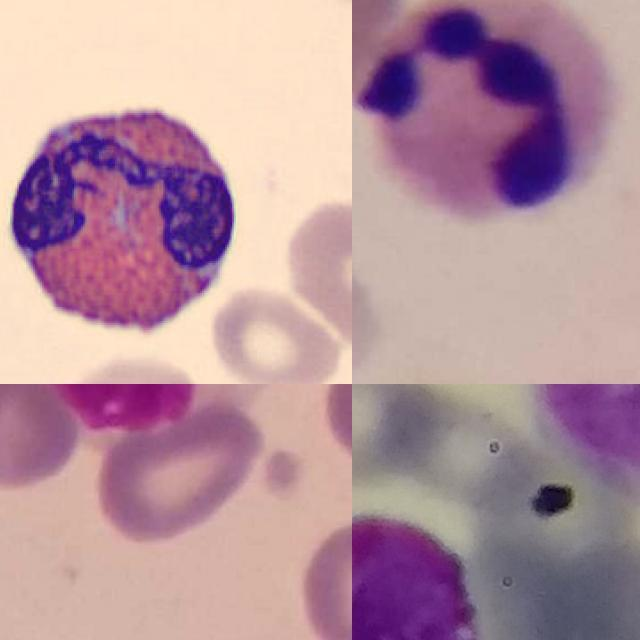Basophil: (352, 512, 489, 640)
Eosinophil: (0, 90, 250, 358)
Monocyte: (11, 384, 284, 438)
Neutrophil: (357, 0, 608, 221)
RBC: (205, 285, 346, 384), (276, 192, 352, 352), (44, 349, 218, 384)
